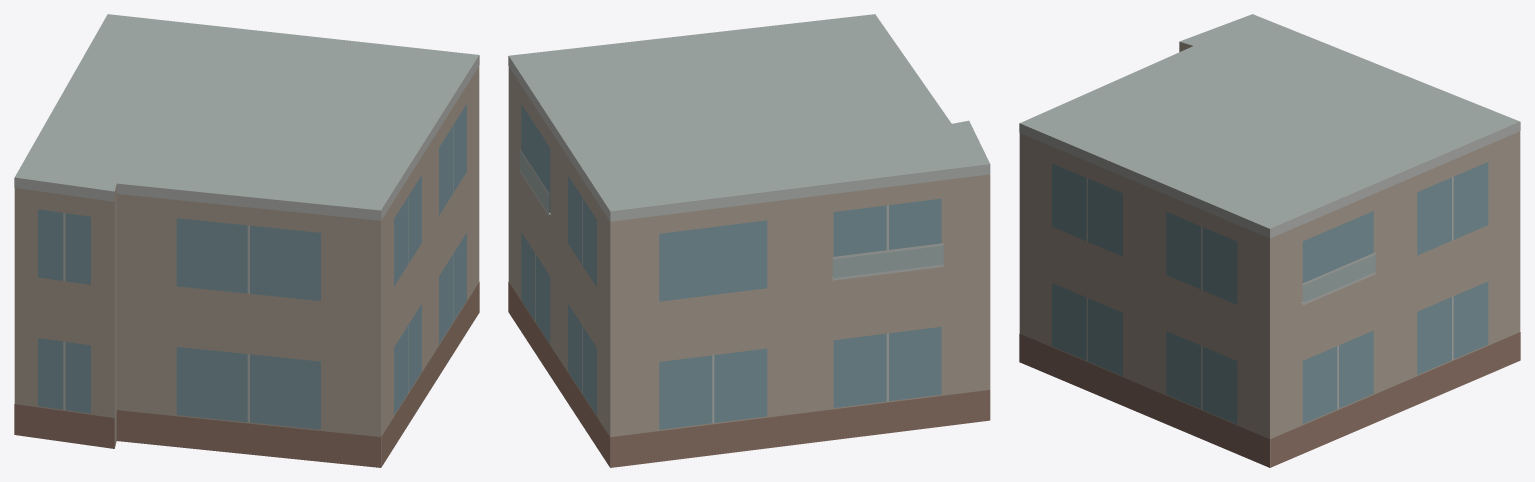
The model's file is survey-upis-32647722.glb.
3 renders of one model, left to right at view 1: azimuth 30°, elevation 25°; view 2: azimuth 150°, elevation 25°; view 3: azimuth 270°, elevation 25°, orthographic. The views are drawn at different scales.
Parts seen in each view (by area): view 1: survey-upis-32647722.tmp; view 2: survey-upis-32647722.tmp; view 3: survey-upis-32647722.tmp.
Boxes of the visible parts, box(x1,y1,x2,y2) form: survey-upis-32647722.tmp: box(14, 14, 479, 467); survey-upis-32647722.tmp: box(508, 14, 990, 467); survey-upis-32647722.tmp: box(1019, 14, 1520, 467).
Bounding box in the file's own units: 11.77 × 6.1 × 11.59.
